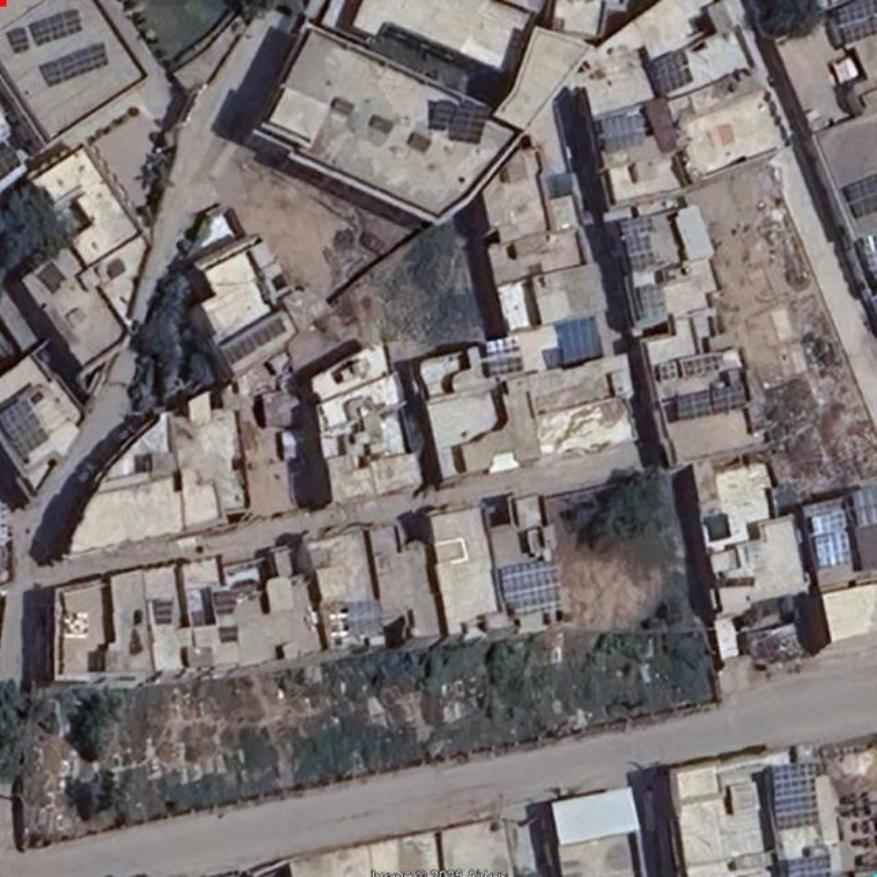Solarpanel: (769, 762, 820, 826), (41, 42, 108, 85), (0, 399, 50, 456), (502, 564, 558, 613), (810, 512, 853, 567), (676, 385, 745, 419), (620, 219, 659, 270), (32, 9, 83, 47), (653, 49, 690, 96), (449, 103, 490, 141), (838, 0, 876, 40), (845, 172, 876, 217), (789, 853, 829, 876), (429, 102, 455, 130), (6, 28, 29, 52)
